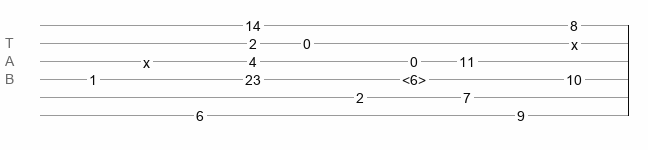0: (303, 36, 311, 46), (410, 54, 418, 64)
1: (89, 72, 97, 82)
10: (566, 72, 582, 82)
11: (459, 54, 475, 64)
14: (245, 18, 261, 28)
2: (249, 36, 257, 46), (356, 90, 364, 100)
23: (245, 72, 261, 82)
4: (249, 54, 257, 64)
6: (196, 108, 204, 118)
7: (463, 90, 471, 100)
8: (570, 18, 578, 28)
9: (517, 108, 525, 118)
harmonic: (402, 72, 426, 82)
x: (143, 55, 150, 63), (571, 37, 578, 45)
